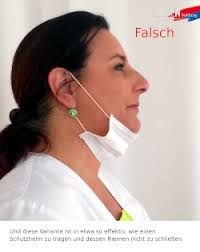mask_weared_incorrect: (96, 46, 153, 165)
